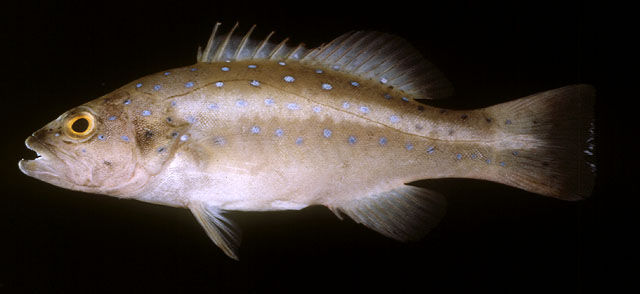fish: (18, 21, 597, 261)
